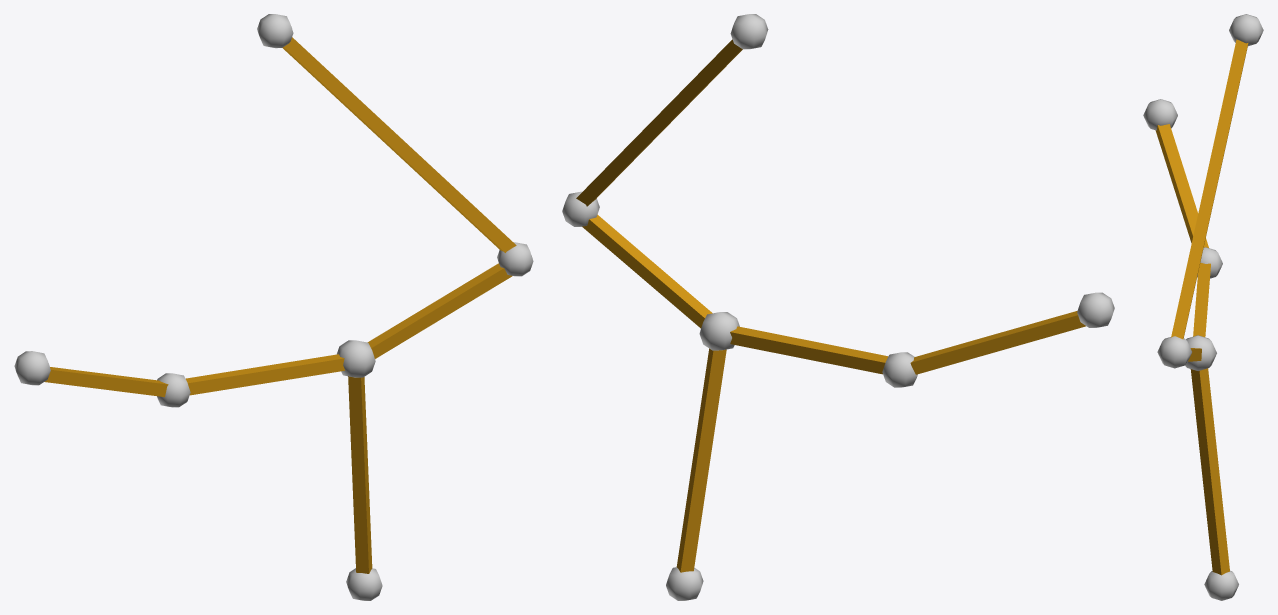
File: Constellation_Camelopardalis.fbx
The picture shows the model from 3 angles, left to right: view 1: azimuth 30°, elevation 25°; view 2: azimuth 150°, elevation 25°; view 3: azimuth 270°, elevation 25°; orthographic projection. The views are drawn at different scales.
Parts seen in each view (by area): view 1: Constellation_Camelopardalis; view 2: Constellation_Camelopardalis; view 3: Constellation_Camelopardalis.
Boxes of the visible parts, box(x1,y1,x2,y2) form: Constellation_Camelopardalis: box(14, 14, 533, 600); Constellation_Camelopardalis: box(562, 14, 1114, 600); Constellation_Camelopardalis: box(1143, 14, 1263, 600).
Bounding box in the file's own units: 16.25 × 17.69 × 3.5.
